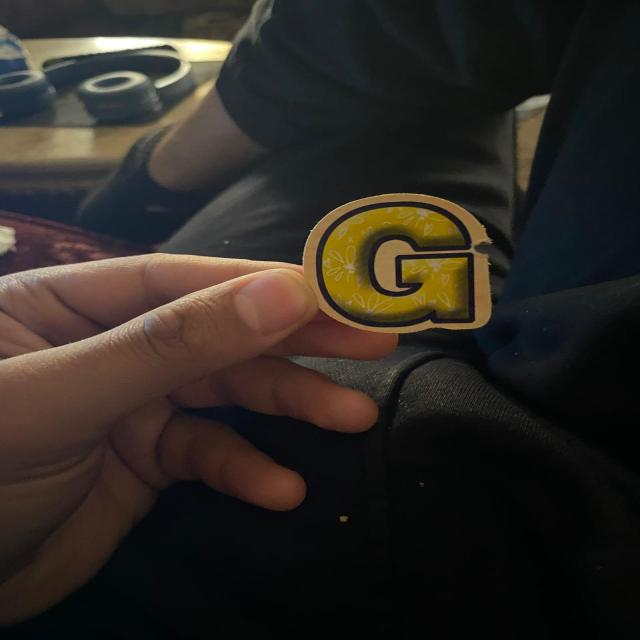G: (304, 193, 491, 333)
